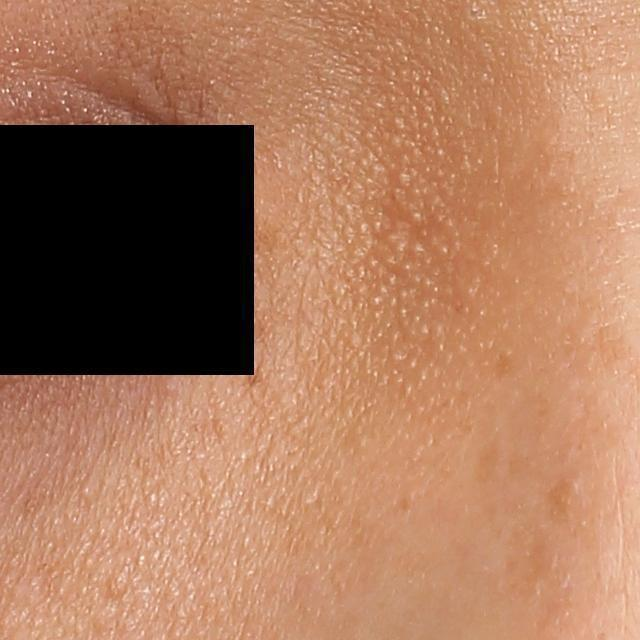melasma: (510, 536, 551, 604), (540, 476, 569, 523), (469, 444, 495, 482), (486, 346, 510, 377), (242, 358, 264, 387)
